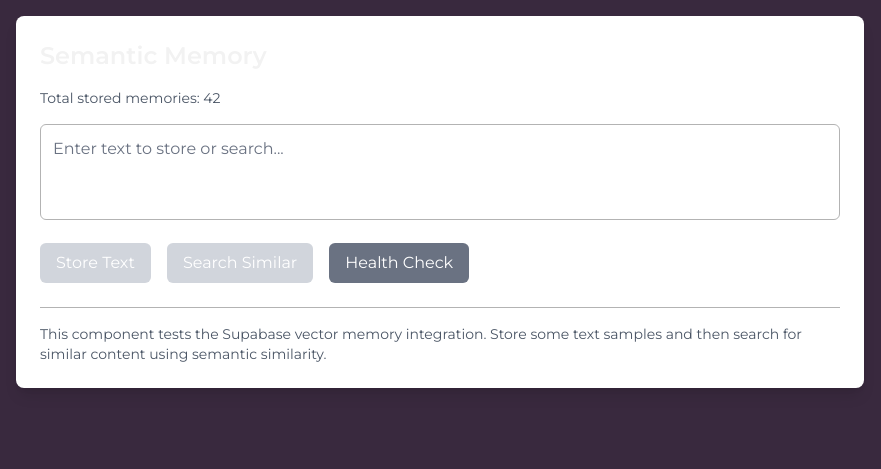
VectorMemory › store functionality › should handle store error
This screenshot has width=881, height=469.
Type "Test" into the text box with placeholder "Enter text to store or search..." at (440, 172), box [40,124,840,220]
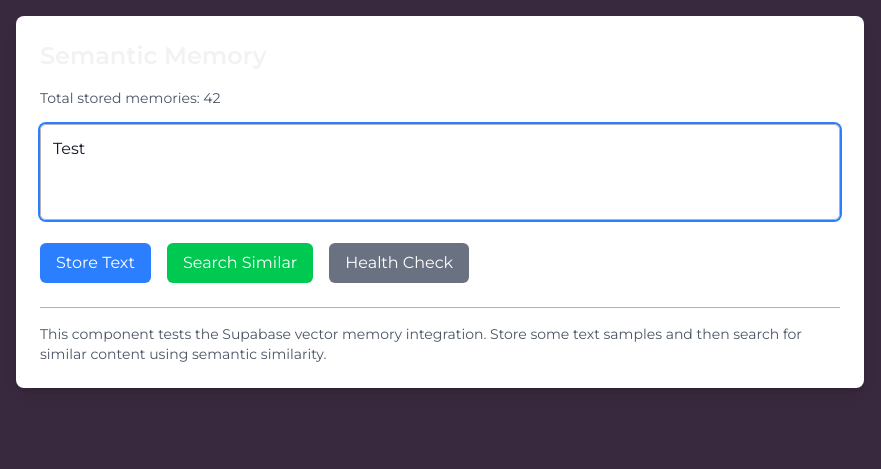
Click the button "Store Text" at (95, 263), box [40,243,151,283]
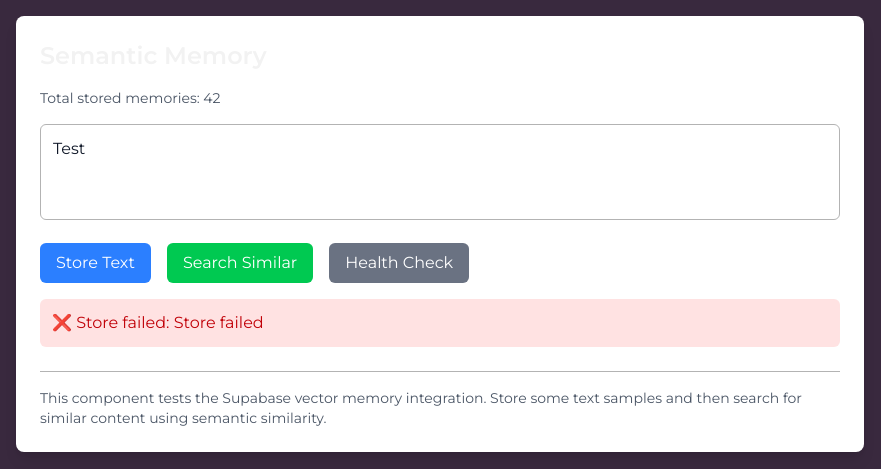
expect the text "❌ Store failed: Store failed" is shown: met, box [40,299,840,347]
